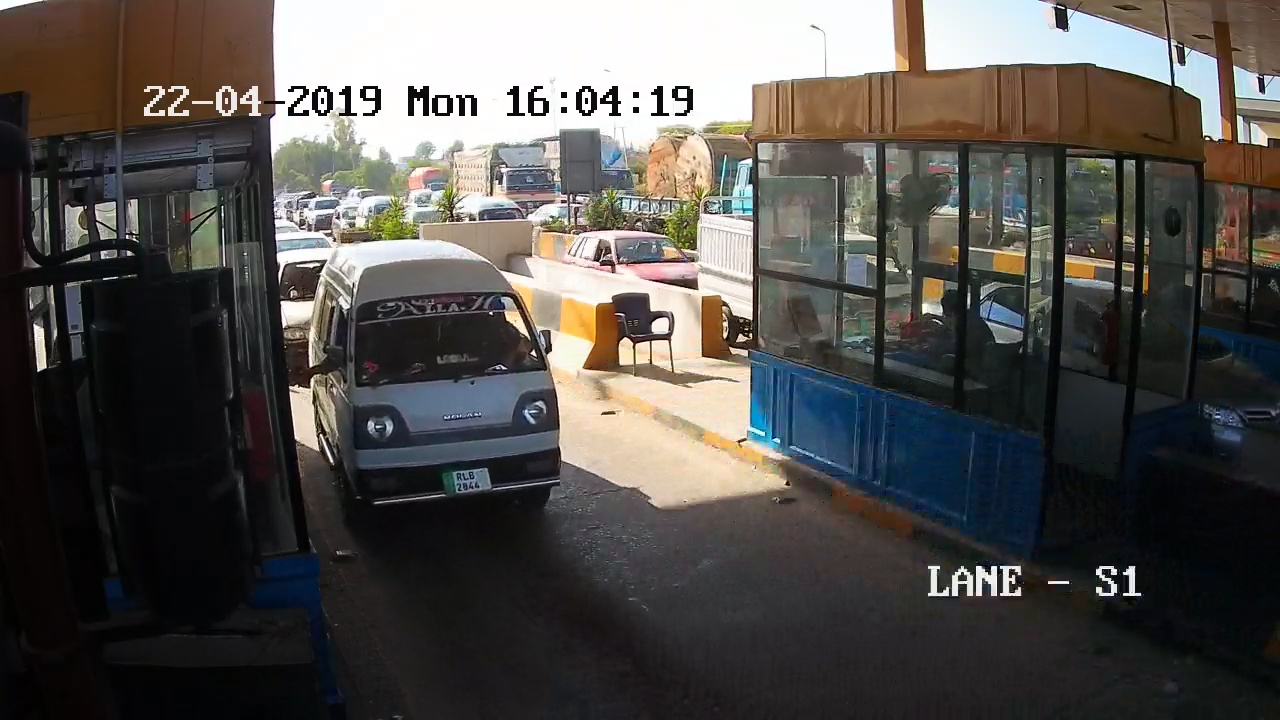Number Plate (Car): (438, 468, 493, 493)
